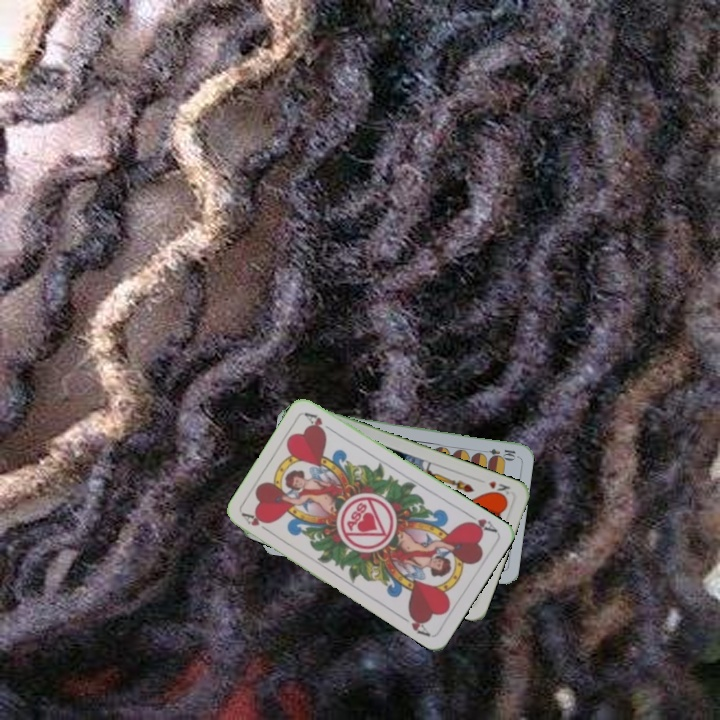E10: (477, 444, 518, 461)
HA: (238, 509, 275, 536), (462, 509, 500, 535)
HK: (485, 477, 513, 501)
